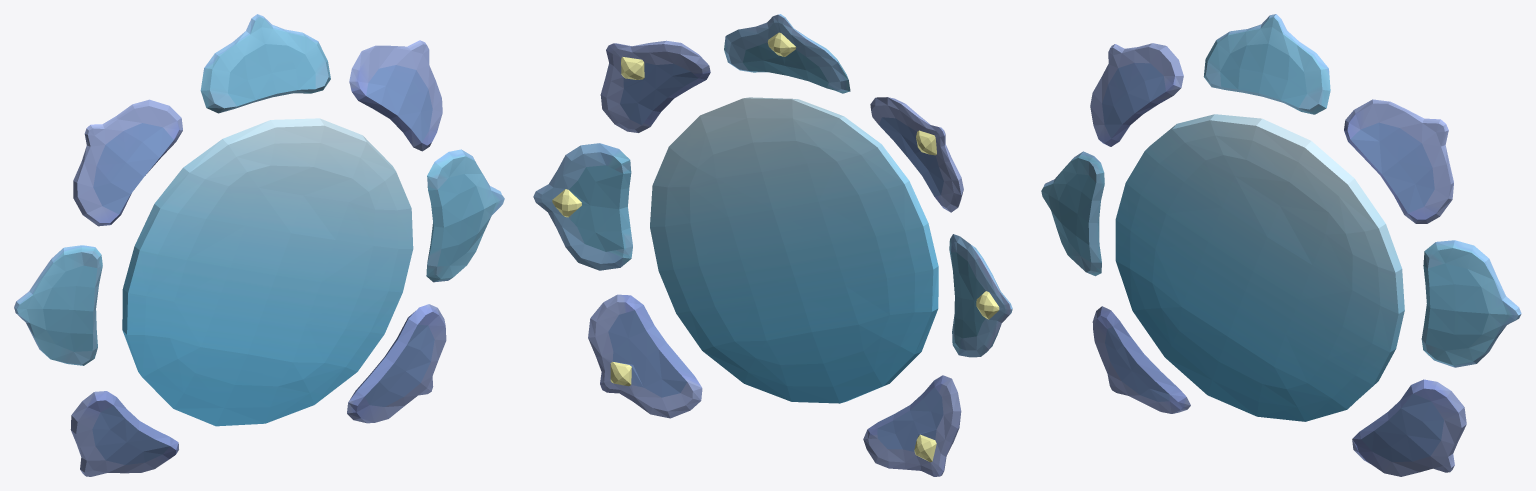
Rendered from CharSkyKid_Hat_MoonlightHalo.glb.
The picture shows the model from 3 angles, left to right: view 1: azimuth 30°, elevation 25°; view 2: azimuth 150°, elevation 25°; view 3: azimuth 330°, elevation 25°; orthographic projection.
Parts seen in each view (by area): view 1: CharSkyKid_Hat_MoonlightHalo; view 2: CharSkyKid_Hat_MoonlightHalo; view 3: CharSkyKid_Hat_MoonlightHalo.
Boxes of the visible parts, bbox=[...] form: CharSkyKid_Hat_MoonlightHalo: bbox=[14, 14, 504, 476]; CharSkyKid_Hat_MoonlightHalo: bbox=[533, 14, 1012, 476]; CharSkyKid_Hat_MoonlightHalo: bbox=[1041, 14, 1521, 476].
Size of the model in its own units: 4.84 by 4.15 by 0.4977.
Materials: 1 (1 with a texture image).
